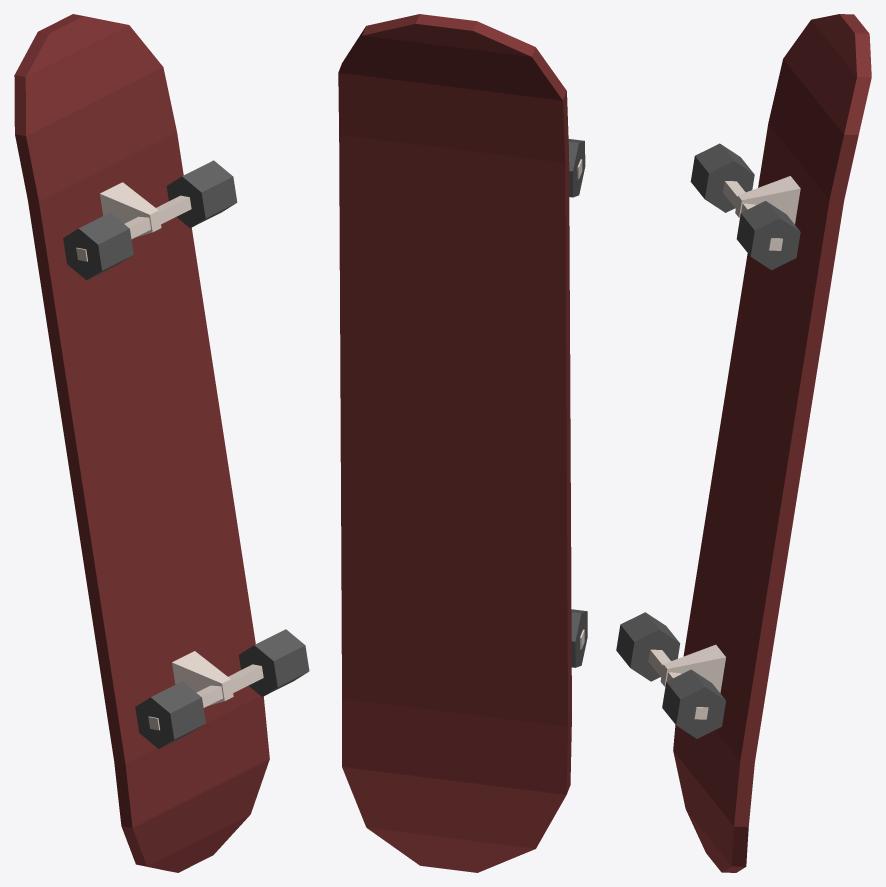
File: Skateboard.fbx
The picture shows the model from 3 angles, left to right: view 1: azimuth 30°, elevation 25°; view 2: azimuth 150°, elevation 25°; view 3: azimuth 270°, elevation 25°; orthographic projection. The views are drawn at different scales.
Parts seen in each view (by area): view 1: Skateboard; view 2: Skateboard; view 3: Skateboard.
Part boxes in pixels (box(x1,y1,x2,y2)): Skateboard: box(14, 14, 309, 872); Skateboard: box(338, 14, 587, 872); Skateboard: box(616, 14, 871, 872).
Bounding box in the file's own units: 30.13 × 28.41 × 99.63.
